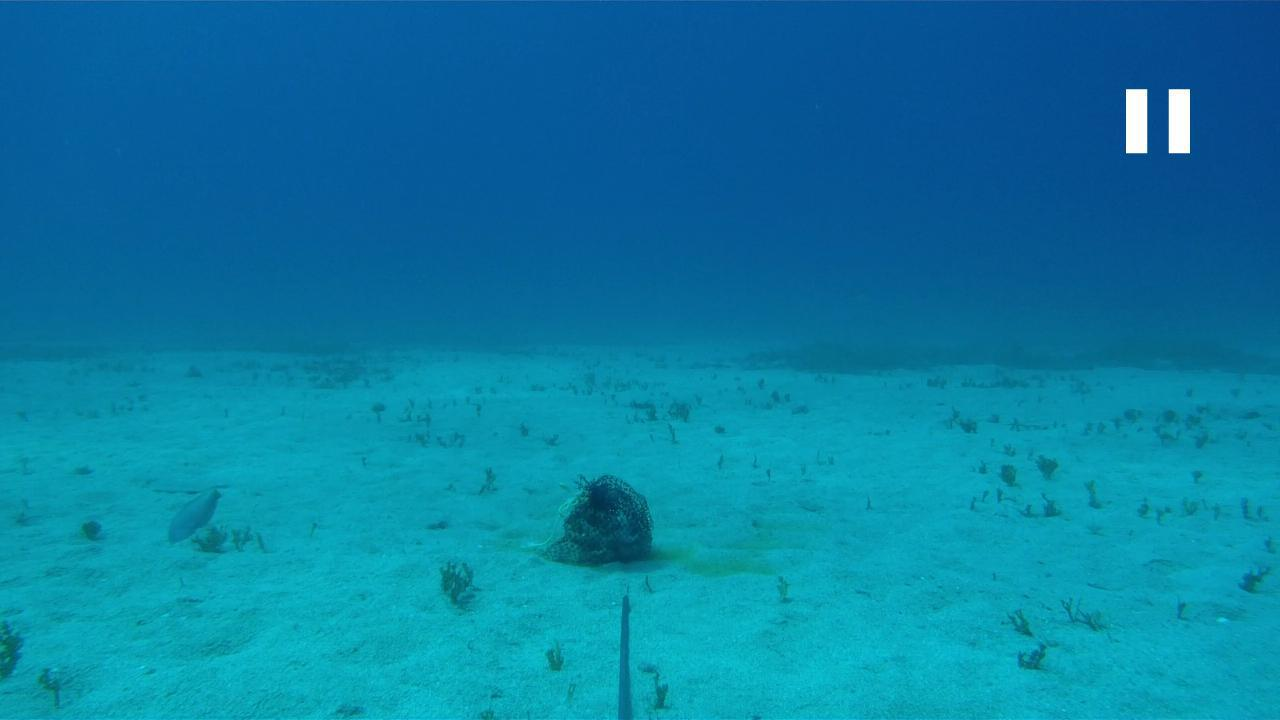bothus: (145, 467, 234, 498)
